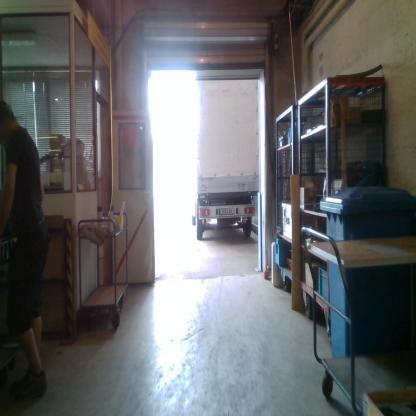small_load_carrier: (275, 236, 287, 267)
